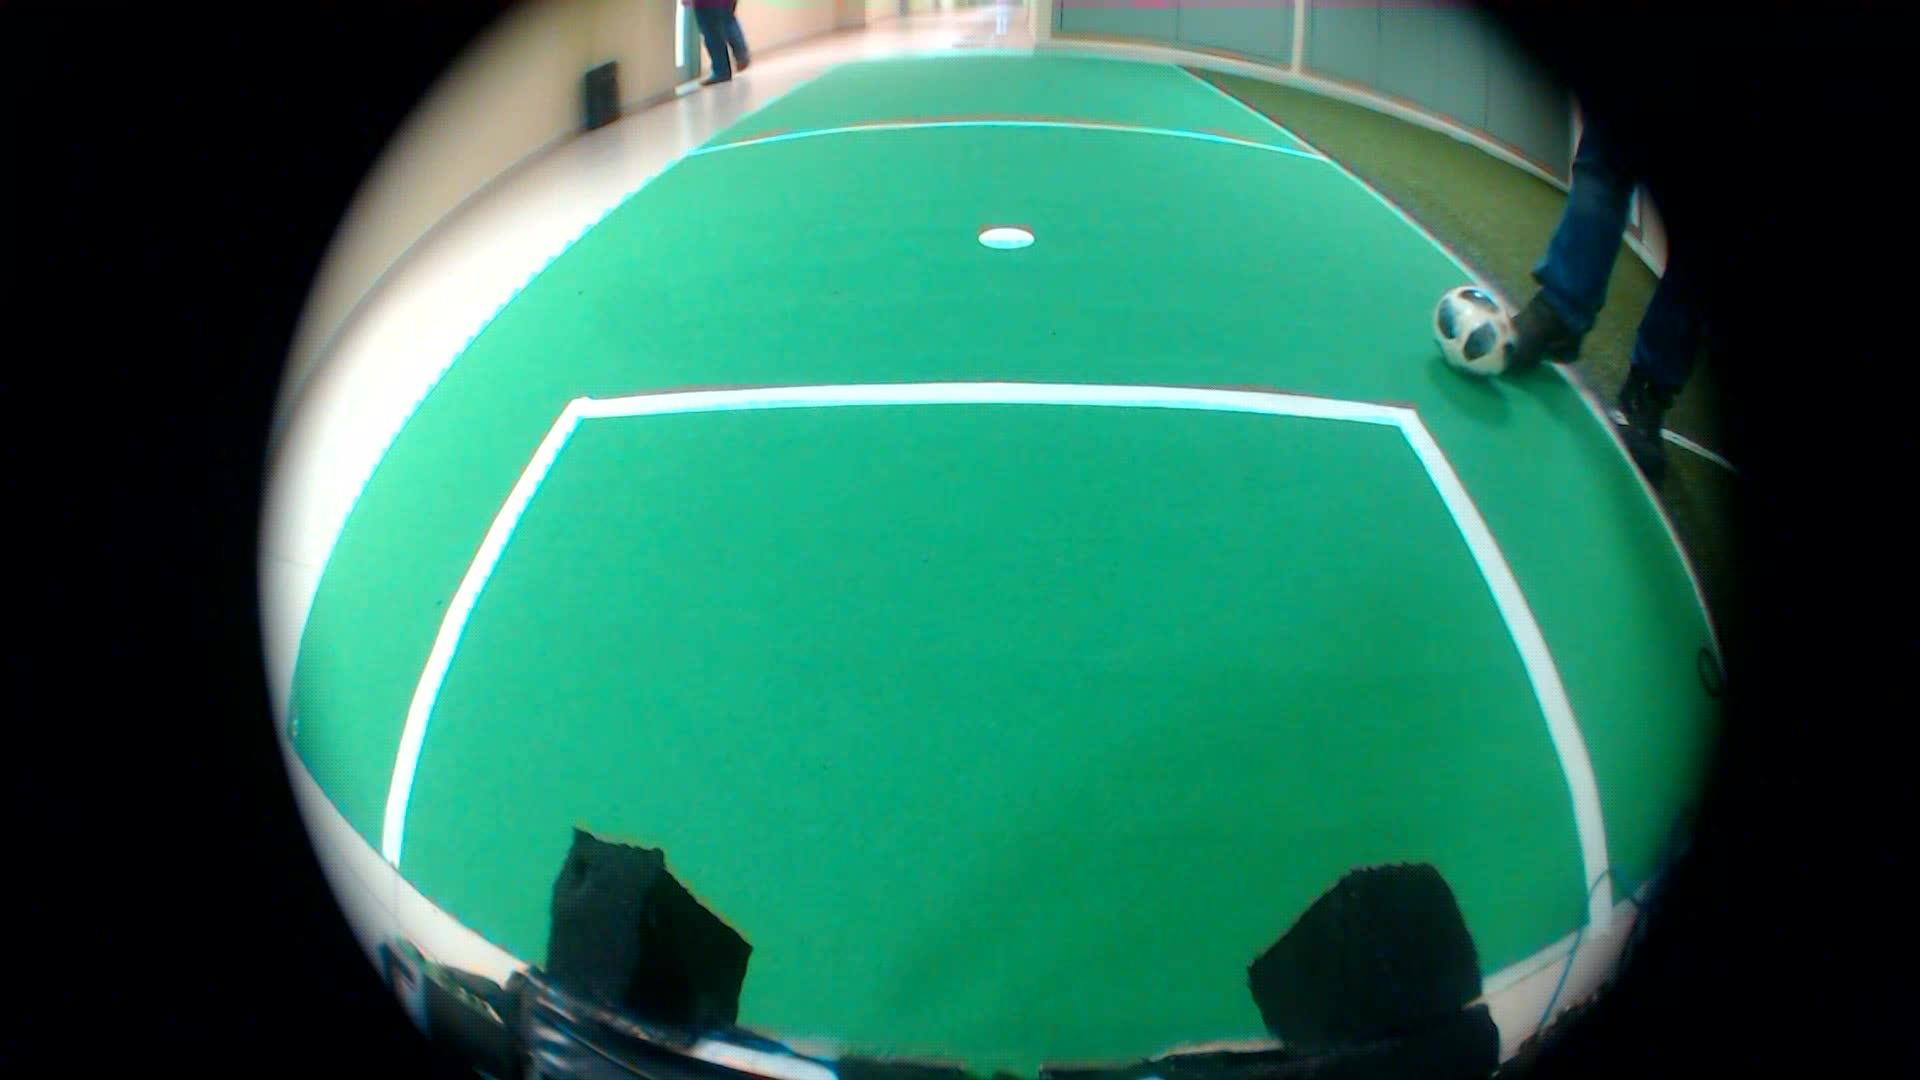ball: (1432, 274, 1518, 386)
